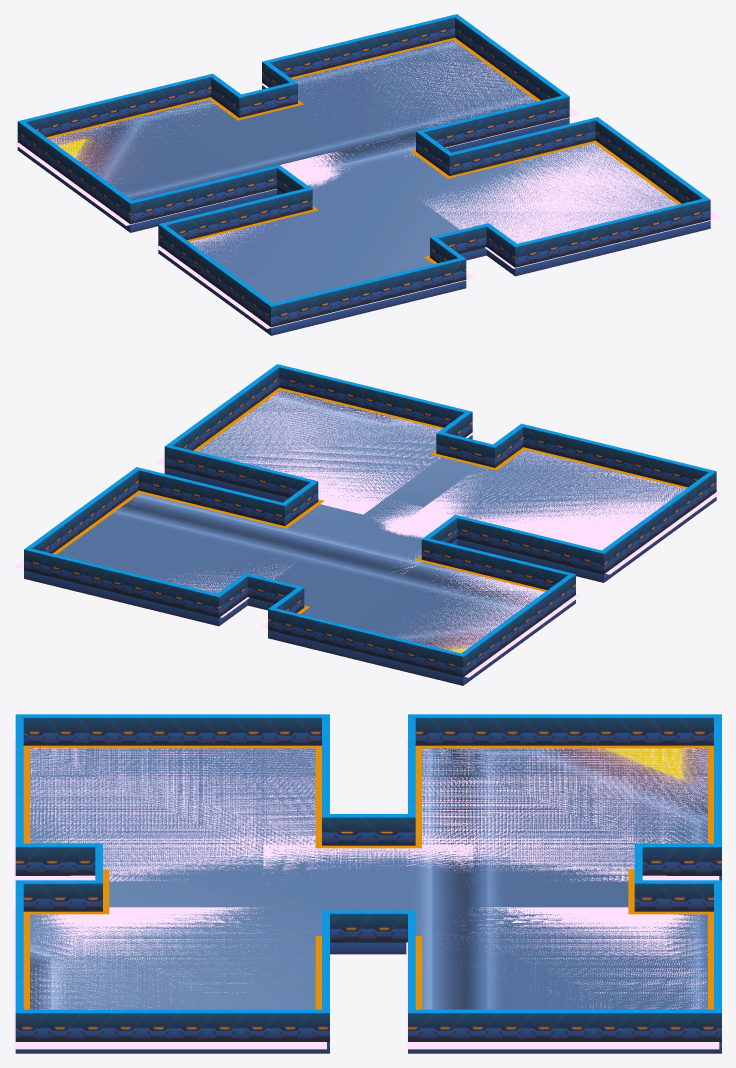
Rendered from Battle_Stage 31.fbx.
3 views of the same model, one above another, from view 1: azimuth 30°, elevation 25°; view 2: azimuth 150°, elevation 25°; view 3: azimuth 270°, elevation 25° (orthographic). The views are drawn at different scales.
Parts seen in each view (by area): view 1: DB_Platform_Cube__7_, DB_Platform_Cube__7_.001, Plane.077, Plane.075, DB_Platform_Cube__7_.002, Plane.074, Plane.078, Plane.076; view 2: DB_Platform_Cube__7_, DB_Platform_Cube__7_.001, Plane.077, Plane.076, Plane.074, DB_Platform_Cube__7_.002, Plane.078, Plane.075; view 3: DB_Platform_Cube__7_, DB_Platform_Cube__7_.001, Plane.076, Plane.074, Plane.075, Plane.077, DB_Platform_Cube__7_.002, Plane.078.
Part boxes in pixels (x1,y1,x2,y2): DB_Platform_Cube__7_: (17, 40, 710, 335); DB_Platform_Cube__7_.001: (17, 14, 710, 327); Plane.077: (421, 143, 721, 268); Plane.075: (261, 41, 580, 147); DB_Platform_Cube__7_.002: (46, 37, 681, 263); Plane.074: (14, 100, 276, 225); Plane.078: (280, 139, 416, 188); Plane.076: (155, 224, 475, 328); DB_Platform_Cube__7_: (24, 390, 716, 685); DB_Platform_Cube__7_.001: (24, 364, 716, 677); Plane.077: (155, 390, 475, 514); Plane.076: (401, 450, 721, 574); Plane.074: (261, 568, 580, 677); DB_Platform_Cube__7_.002: (53, 387, 687, 614); Plane.078: (372, 501, 431, 574); Plane.075: (14, 502, 291, 617); DB_Platform_Cube__7_: (15, 748, 721, 1053); DB_Platform_Cube__7_.001: (15, 714, 721, 1041); Plane.076: (14, 740, 326, 881); Plane.074: (406, 740, 719, 881); Plane.075: (406, 907, 719, 1049); Plane.077: (14, 907, 326, 1049); DB_Platform_Cube__7_.002: (23, 745, 713, 1009); Plane.078: (263, 844, 473, 882).
Bounding box in the file's own units: 5592 × 343 × 5409.
